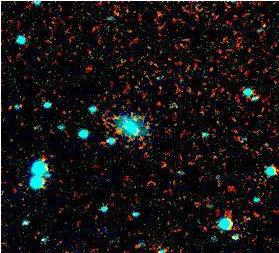star: (21, 144, 51, 174)
